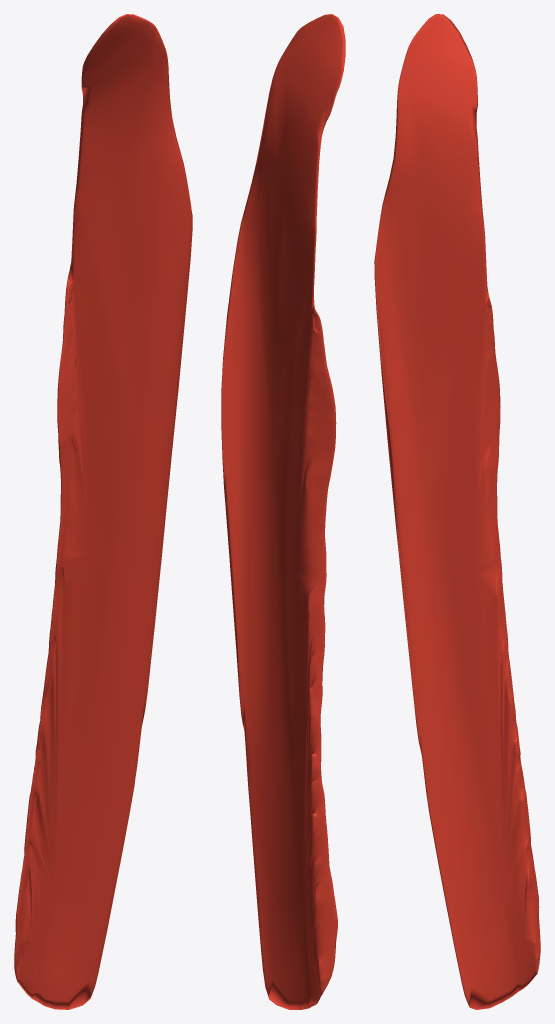
The model's file is Tibialis_anterior_lateral_surface_tibia_right.glb.
3 renders of one model, left to right at view 1: azimuth 90°, elevation 25°; view 2: azimuth 210°, elevation 25°; view 3: azimuth 270°, elevation 25°, orthographic. The views are drawn at different scales.
Parts seen in each view (by area): view 1: Tibialis_anterior_on_lateral_surface_of_tibia.r_Generated_Me; view 2: Tibialis_anterior_on_lateral_surface_of_tibia.r_Generated_Me; view 3: Tibialis_anterior_on_lateral_surface_of_tibia.r_Generated_Me.
Part boxes in pixels (x1=…): Tibialis_anterior_on_lateral_surface_of_tibia.r_Generated_Me: x1=14, y1=14, x2=192, y2=1009; Tibialis_anterior_on_lateral_surface_of_tibia.r_Generated_Me: x1=221, y1=14, x2=345, y2=1009; Tibialis_anterior_on_lateral_surface_of_tibia.r_Generated_Me: x1=374, y1=14, x2=540, y2=1009.
Bounding box in the file's own units: 0.0239 × 0.2352 × 0.0369.
